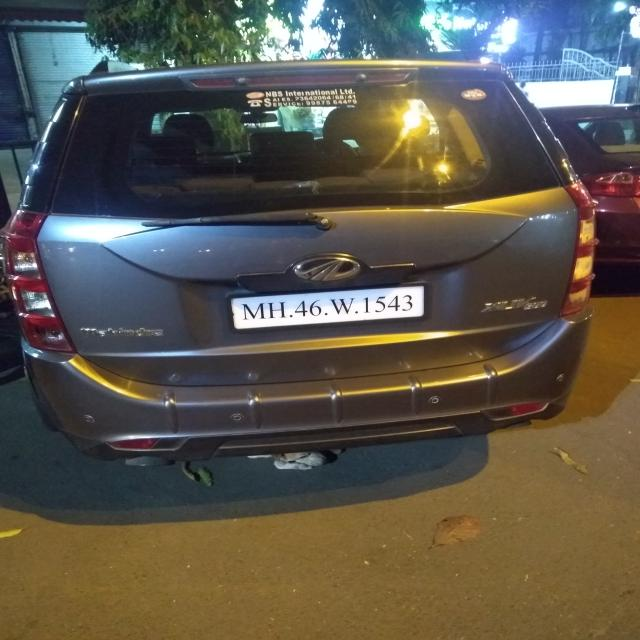Number-Plate: (233, 287, 428, 326)
